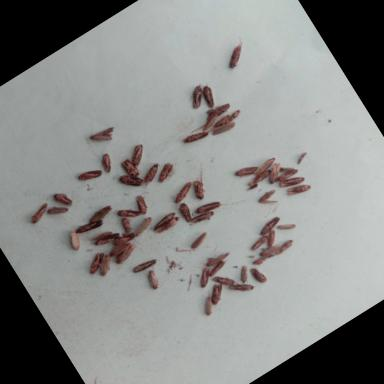pbw: (133, 158, 166, 190), (86, 118, 118, 148), (194, 193, 228, 221), (225, 273, 256, 301), (74, 214, 105, 240), (182, 123, 214, 148), (82, 247, 110, 275), (168, 180, 198, 206), (201, 245, 232, 270), (123, 138, 150, 166), (184, 82, 211, 110), (118, 166, 144, 194), (196, 80, 222, 108), (76, 162, 104, 186), (118, 152, 142, 180), (232, 158, 260, 182), (204, 280, 229, 306), (195, 290, 220, 316), (152, 160, 178, 185), (256, 186, 282, 210), (210, 268, 236, 292), (129, 215, 156, 238), (285, 177, 312, 200), (256, 214, 284, 236), (106, 236, 134, 258), (262, 160, 287, 184), (110, 226, 136, 249), (116, 201, 142, 224), (94, 228, 121, 250), (112, 242, 139, 264), (154, 214, 182, 235), (132, 190, 156, 214), (93, 253, 117, 277), (143, 265, 166, 290), (26, 202, 52, 224), (206, 98, 232, 120), (279, 170, 305, 192), (190, 206, 216, 228), (86, 204, 114, 224), (197, 110, 222, 132), (210, 117, 236, 138), (246, 168, 273, 188), (205, 256, 231, 276), (132, 255, 158, 275), (252, 156, 278, 176), (193, 266, 216, 288), (257, 238, 282, 258), (152, 210, 178, 229), (96, 152, 117, 175), (53, 188, 74, 211), (247, 232, 271, 252), (175, 199, 195, 223), (274, 166, 299, 185), (259, 228, 281, 249), (89, 227, 113, 246), (272, 237, 296, 256), (206, 114, 231, 132), (248, 264, 268, 286), (234, 264, 254, 286), (189, 178, 209, 200), (47, 200, 68, 220), (252, 250, 274, 268), (188, 232, 210, 250), (275, 217, 296, 235), (66, 230, 84, 250), (223, 108, 243, 124), (120, 214, 136, 232), (277, 160, 295, 176)
